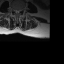CCS_normal: (16, 7, 18, 16)
LFS_normal: (20, 6, 22, 12)
LLS_normal: (18, 7, 20, 15)
RFS_normal: (12, 6, 14, 13)
RLS_normal: (14, 7, 16, 14)
